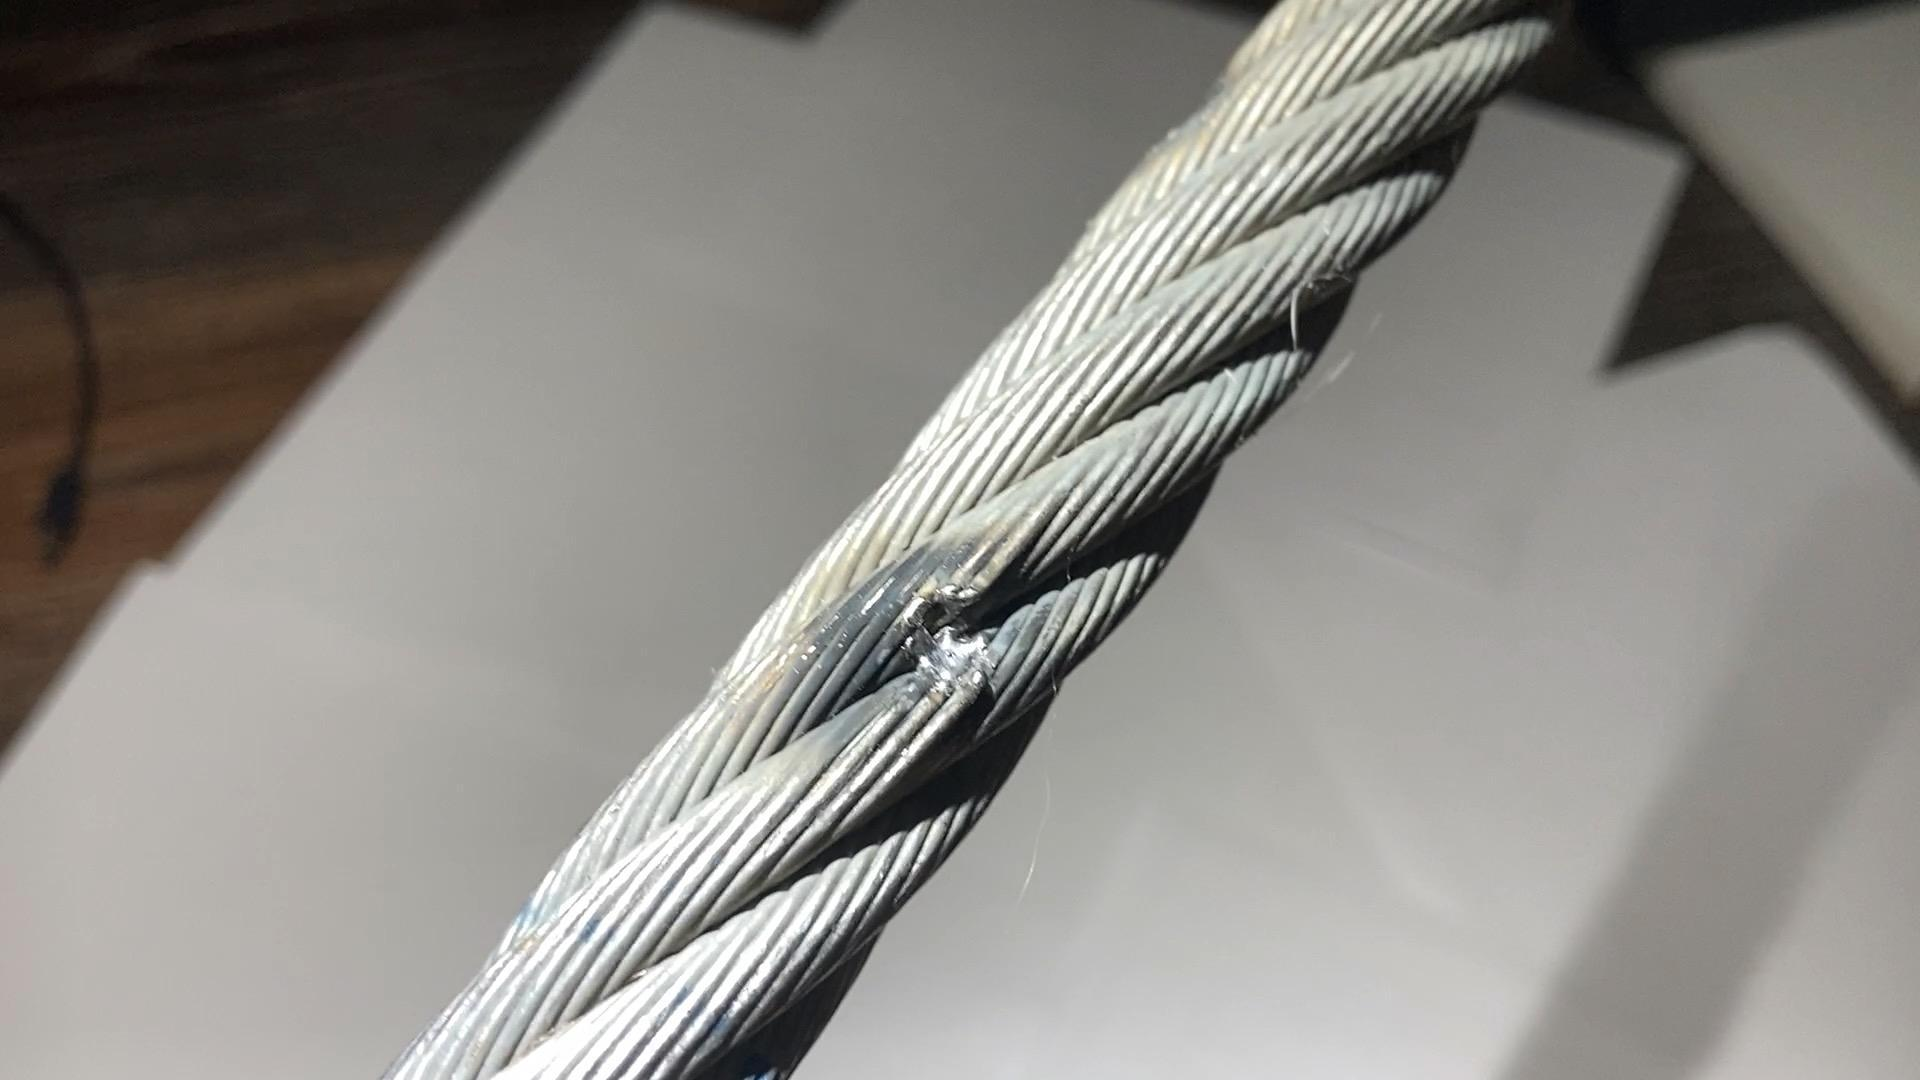thunderbolt: (868, 560, 1014, 720)
